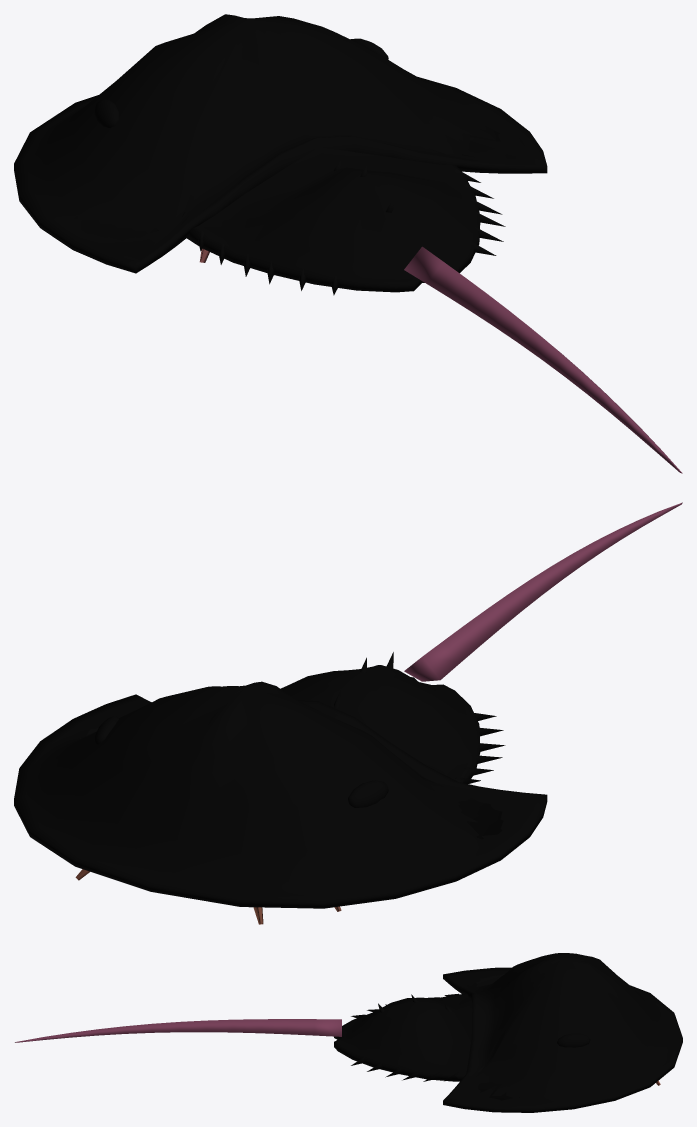
File: horseshoe_crab_game.glb
The picture shows the model from 3 angles, top to bottom: view 1: azimuth 30°, elevation 25°; view 2: azimuth 150°, elevation 25°; view 3: azimuth 270°, elevation 25°; orthographic projection. The views are drawn at different scales.
Parts seen in each view (by area): view 1: horseshoe_crab_game; view 2: horseshoe_crab_game; view 3: horseshoe_crab_game.
Boxes of the visible parts, x1,y1,x2,y2 form: horseshoe_crab_game: (14,14,682,473); horseshoe_crab_game: (14,502,682,924); horseshoe_crab_game: (15,953,682,1112).
Bounding box in the file's own units: 0.251 × 0.0826 × 0.502.
